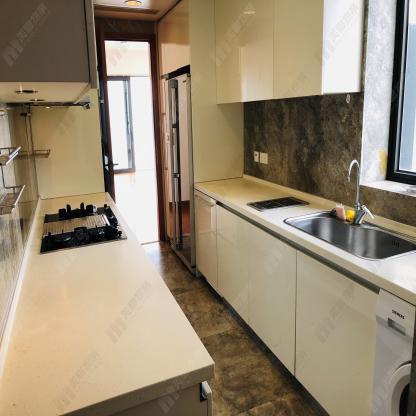Cupboard: (214, 205, 379, 416), (212, 2, 366, 105)
Exhaust Hood: (38, 200, 130, 255)
Faucet: (341, 151, 370, 222)
Fridge: (163, 73, 194, 271)
Sink: (283, 211, 415, 263)
